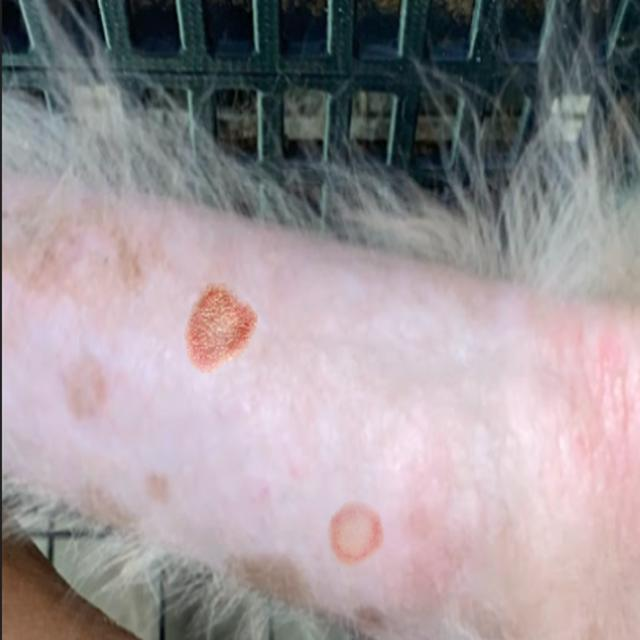ringworm: (170, 278, 267, 379), (312, 476, 390, 572)
